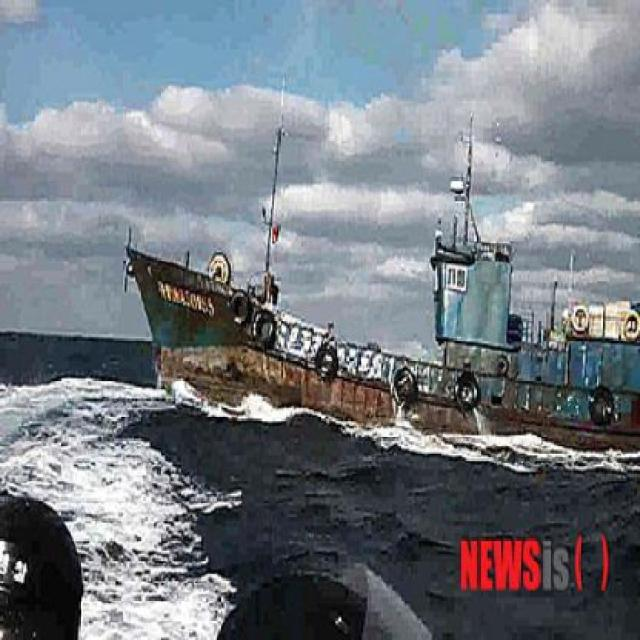fish-b: (119, 89, 640, 467)
